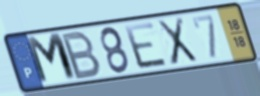7: (190, 12, 219, 62)
8: (99, 25, 130, 76)
B: (60, 29, 104, 82)
E: (121, 20, 171, 71)
M: (23, 31, 80, 87)
X: (154, 15, 200, 68)
